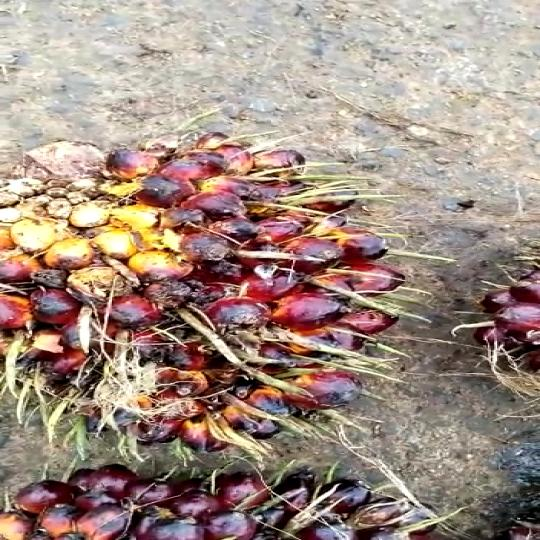kurang masak: (0, 136, 434, 454)
